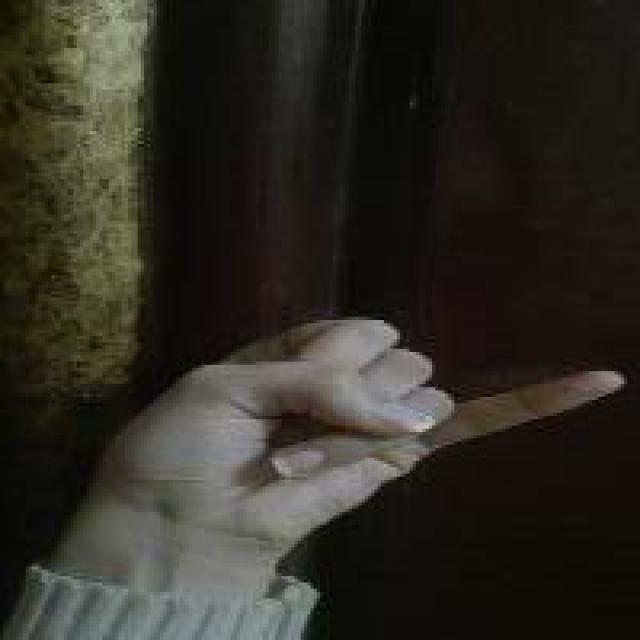J: (107, 310, 626, 548)
